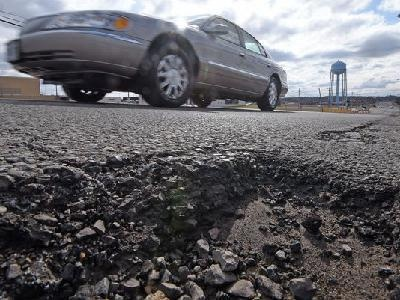pothole: (0, 144, 400, 299), (312, 129, 352, 143)
